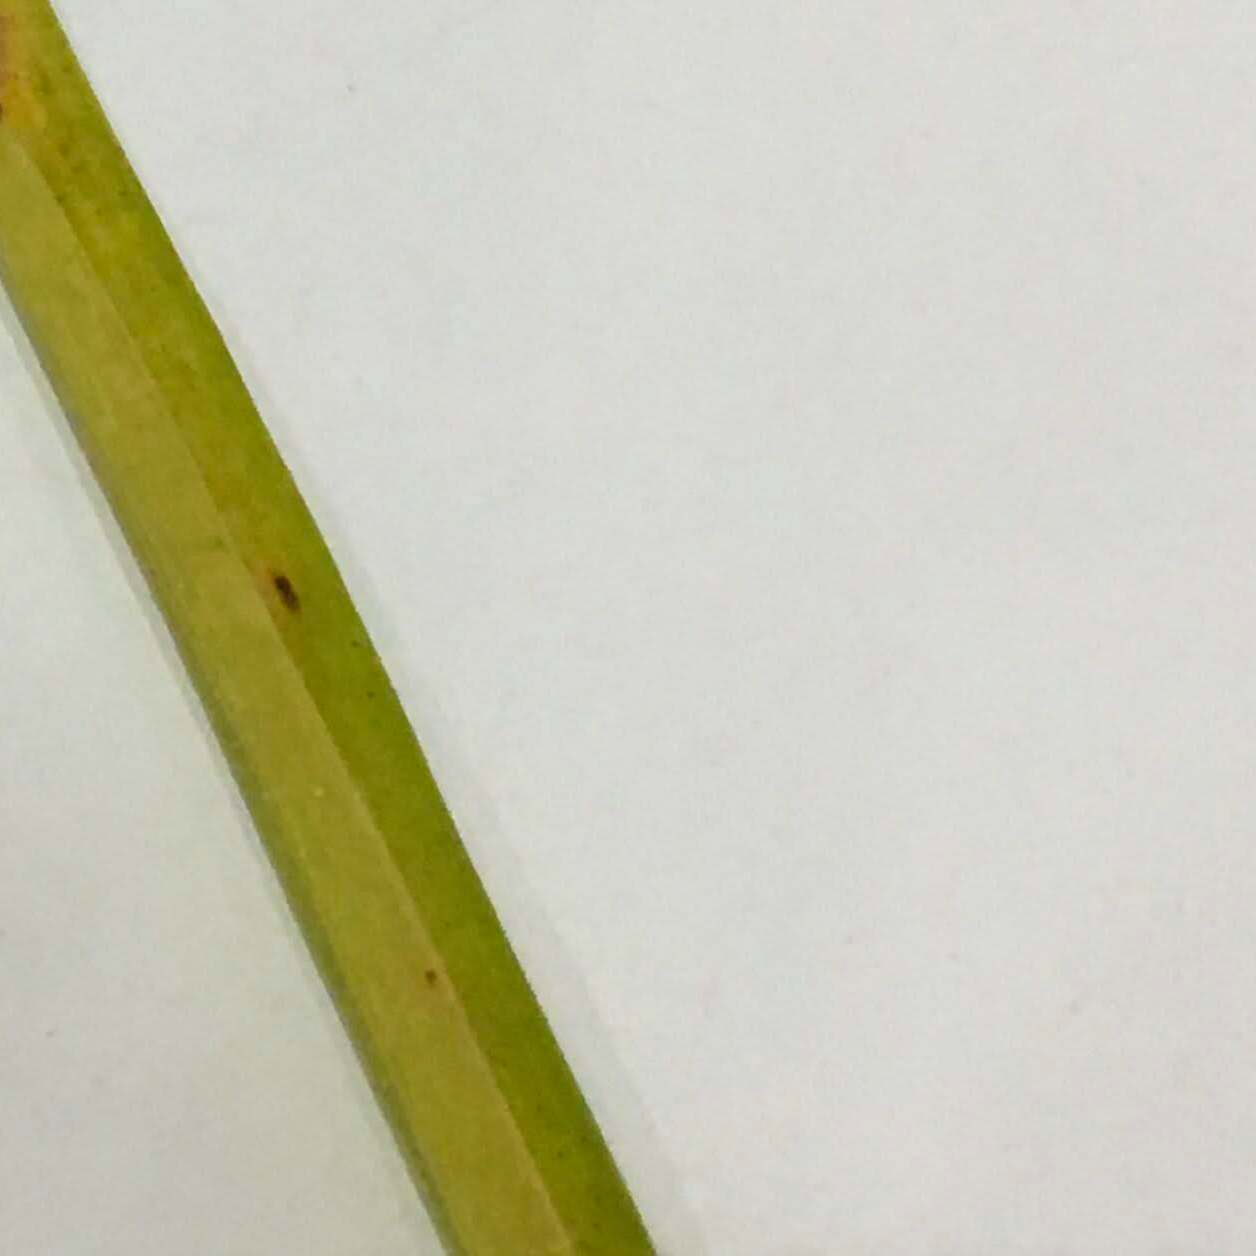brown spot: (1, 1, 656, 1256)
